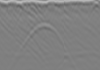hyperbola: (16, 21, 77, 64)
